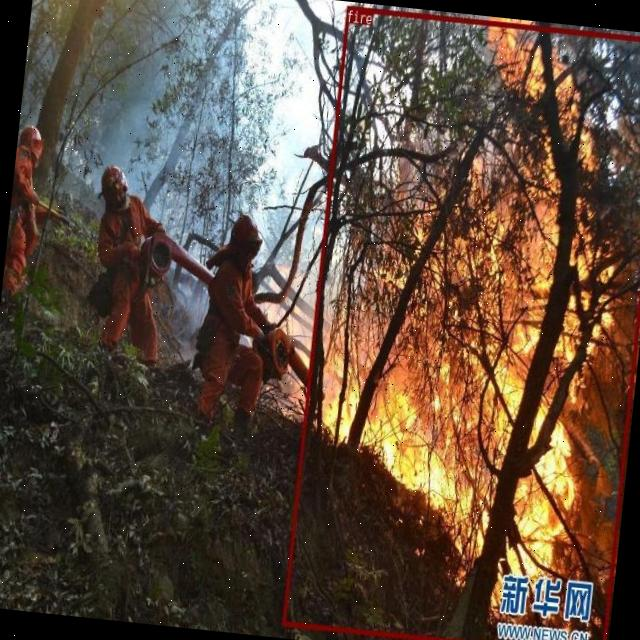fire: (281, 5, 640, 640)
